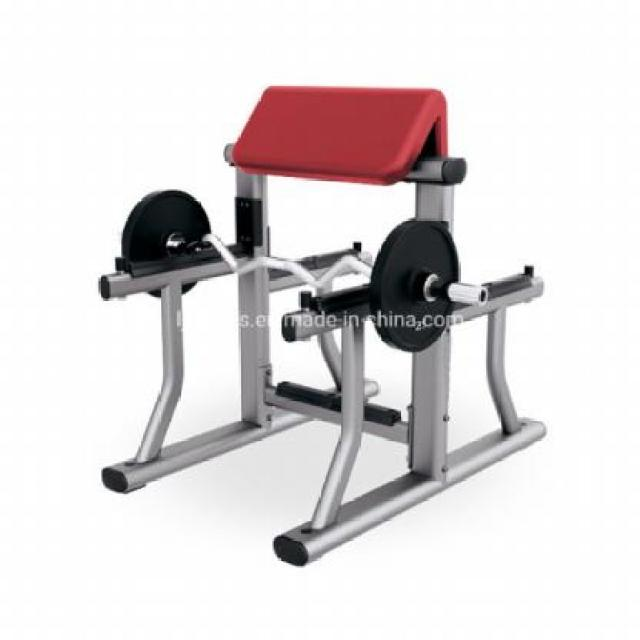arm curl machine: (98, 85, 548, 569)
